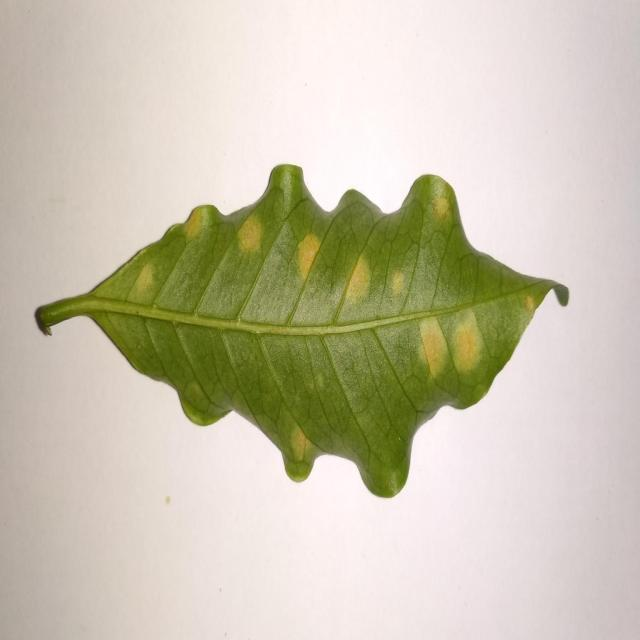rust: (452, 309, 481, 372), (420, 317, 448, 378), (427, 186, 457, 232), (182, 206, 218, 244), (346, 254, 372, 305), (297, 232, 322, 280), (237, 204, 262, 252), (290, 426, 315, 466), (519, 285, 542, 324)
